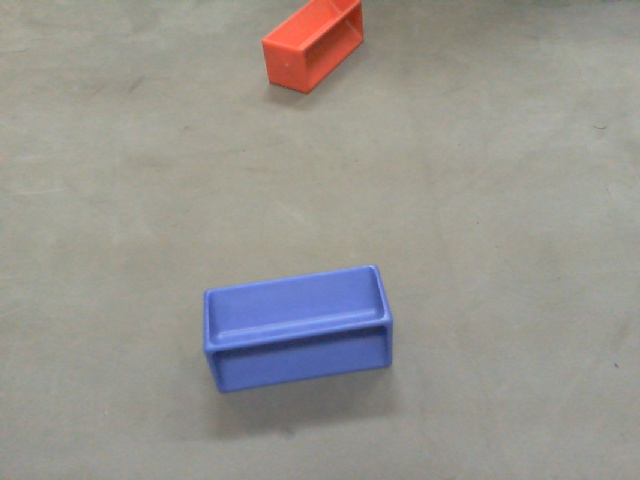BlueSample: (202, 263, 412, 396)
RedSample: (258, 1, 372, 93)
